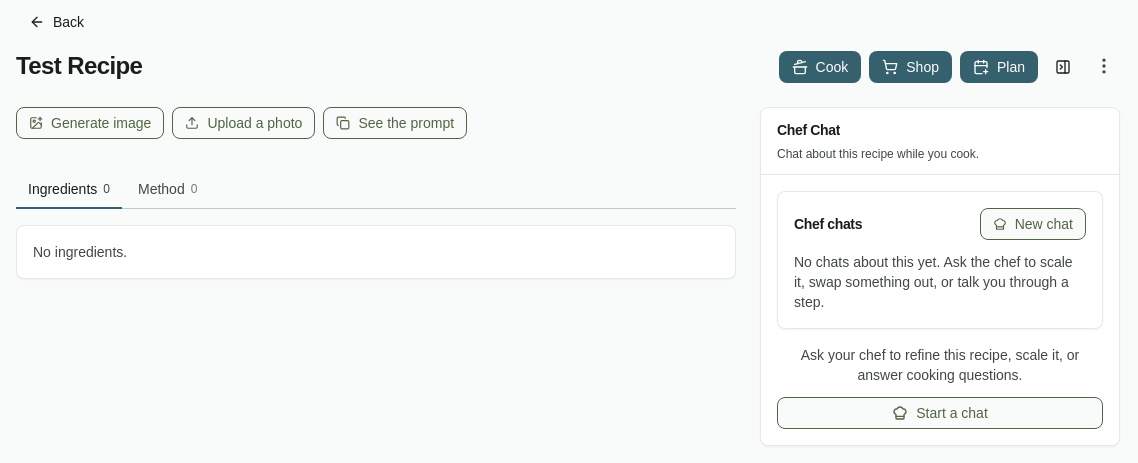
Test case: RecipeViewPage — optimise for my kitchen › is hidden when the household owns no equipment
What coordinates should you click on to do the following:
click the button with test id "recipe-actions-overflow"
I would click on:
 (1104, 66)
Its box is [1088, 50, 1120, 82].
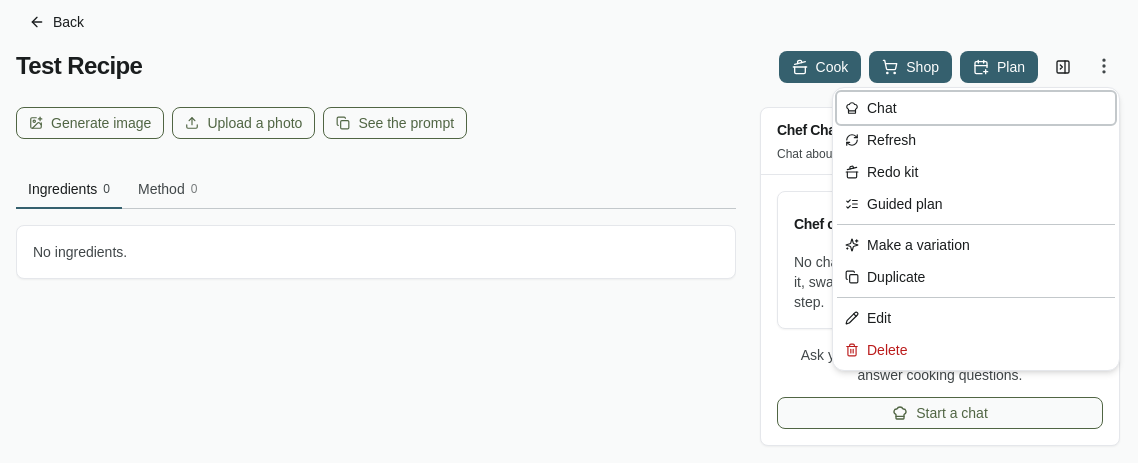
Now the button with test id "recipe-duplicate-menu-item" is shown, box [837, 261, 1115, 293]
